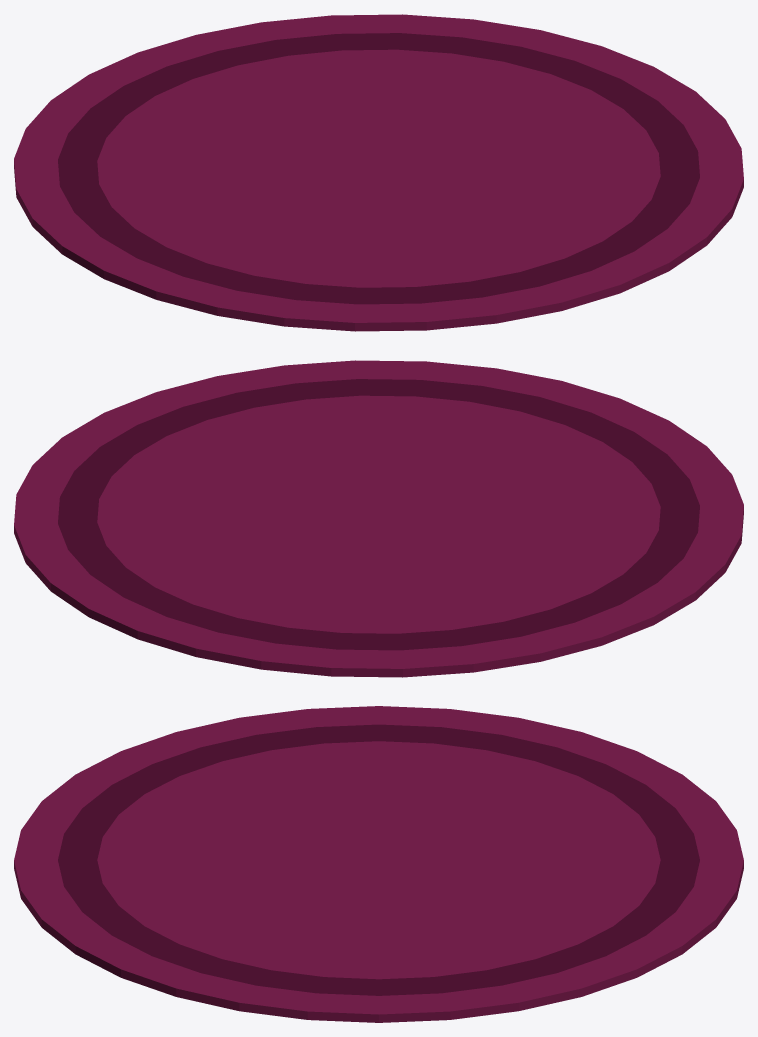
Rendered from Rug4.fbx.
3 renders of one model, top to bottom at view 1: azimuth 30°, elevation 25°; view 2: azimuth 150°, elevation 25°; view 3: azimuth 270°, elevation 25°, orthographic.
Visible parts, largest first — view 1: Prop_Carpet_06; view 2: Prop_Carpet_06; view 3: Prop_Carpet_06.
Boxes of the visible parts, x1,y1,x2,y2 form: Prop_Carpet_06: [14, 14, 743, 331]; Prop_Carpet_06: [14, 360, 743, 677]; Prop_Carpet_06: [14, 706, 743, 1022].
Size of the model in its own units: 150 by 1.92 by 150.
Materials: 1 (1 with a texture image).
